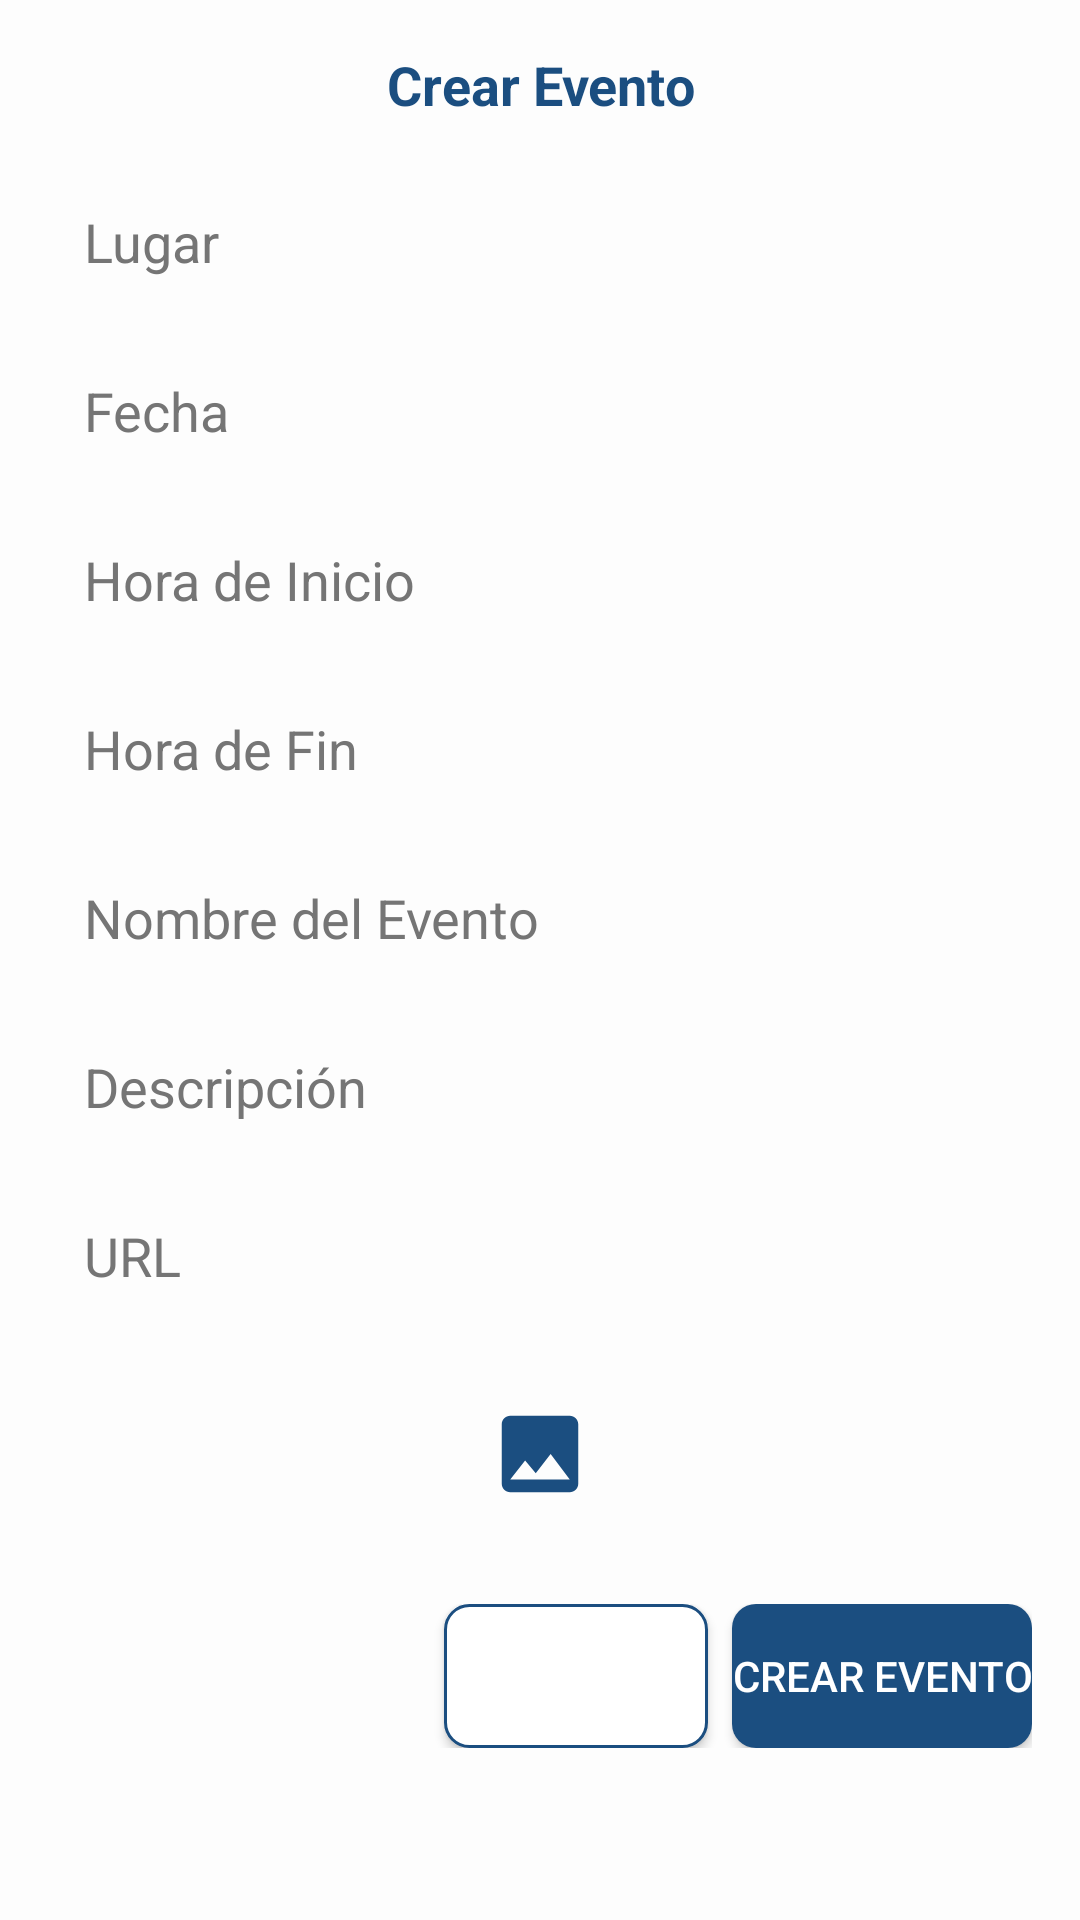

Where to tap for icons on this 1080×1920 app screen, as point (x, y):
Seleccionar Imagen: point (540, 1454)
